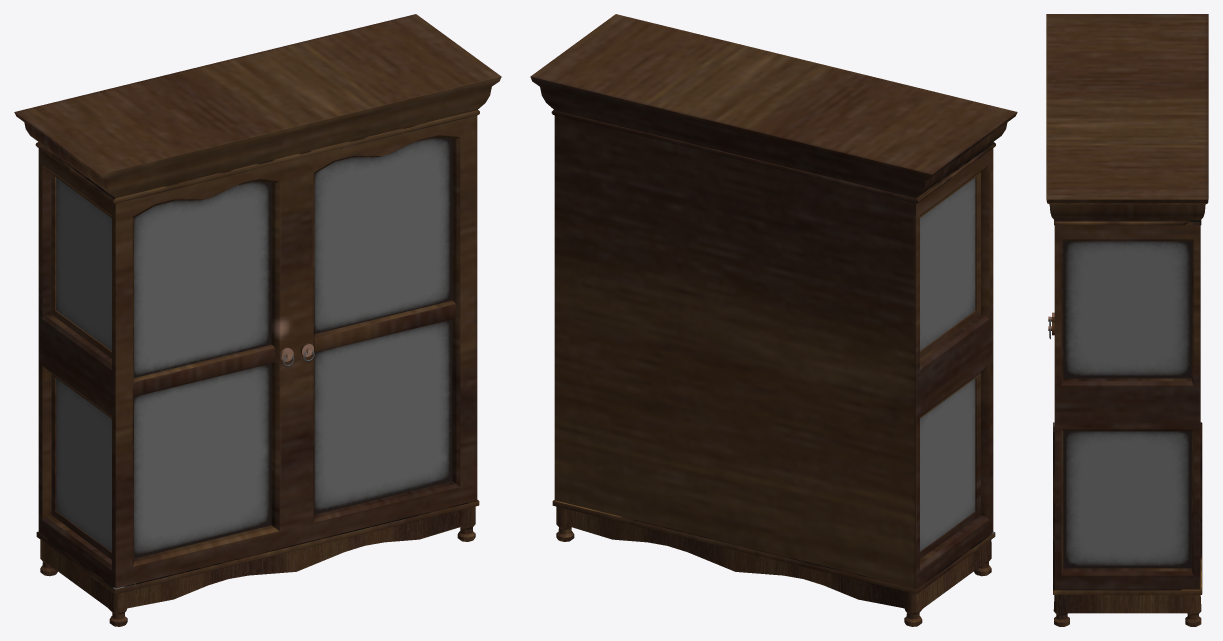
Rendered from Glassware.fbx.
The picture shows the model from 3 angles, left to right: view 1: azimuth 30°, elevation 25°; view 2: azimuth 150°, elevation 25°; view 3: azimuth 270°, elevation 25°; orthographic projection. The views are drawn at different scales.
Parts seen in each view (by area): view 1: Cube; view 2: Cube; view 3: Cube.
Boxes of the visible parts, <box> form: Cube: <box>14,14,501,626</box>; Cube: <box>530,14,1017,626</box>; Cube: <box>1046,14,1208,626</box>.
Size of the model in its own units: 177 by 195 by 65.42.
